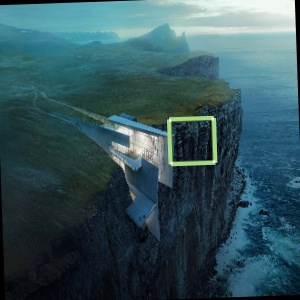square: (161, 114, 223, 169)
